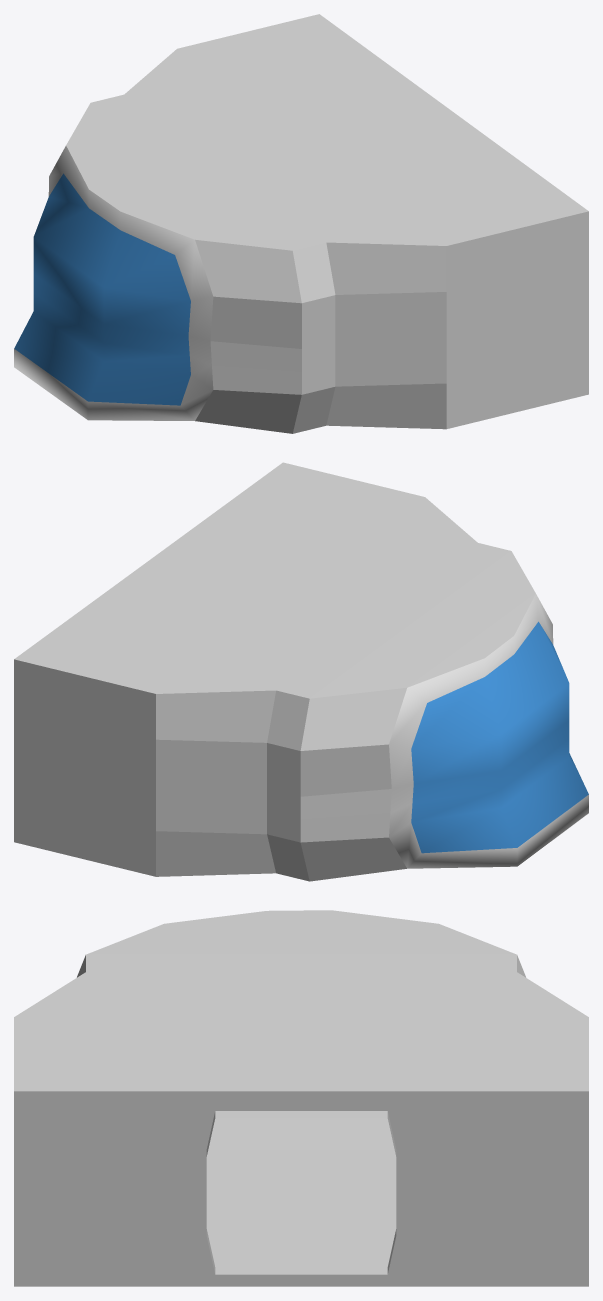
The model's file is CockpitOutside.fbx.
The picture shows the model from 3 angles, top to bottom: view 1: azimuth 30°, elevation 25°; view 2: azimuth 150°, elevation 25°; view 3: azimuth 270°, elevation 25°; orthographic projection. The views are drawn at different scales.
Visible parts, largest first — view 1: Sparejoiner.003; view 2: Sparejoiner.003; view 3: Sparejoiner.003.
Boxes of the visible parts, bbox=[...] form: Sparejoiner.003: bbox=[14, 14, 588, 433]; Sparejoiner.003: bbox=[14, 462, 588, 881]; Sparejoiner.003: bbox=[14, 910, 588, 1286].
Bounding box in the file's own units: 14.97 × 6.25 × 16.66.
